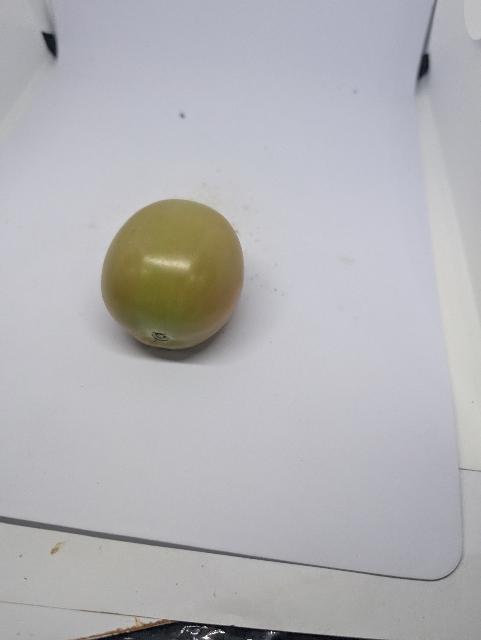breaker: (102, 199, 244, 349)
